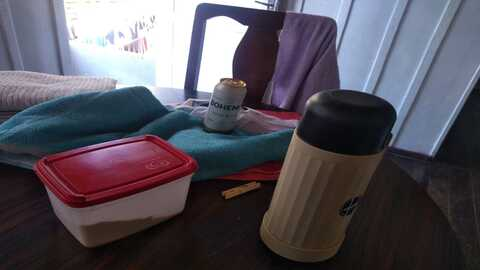bohemia: (204, 79, 249, 129)
